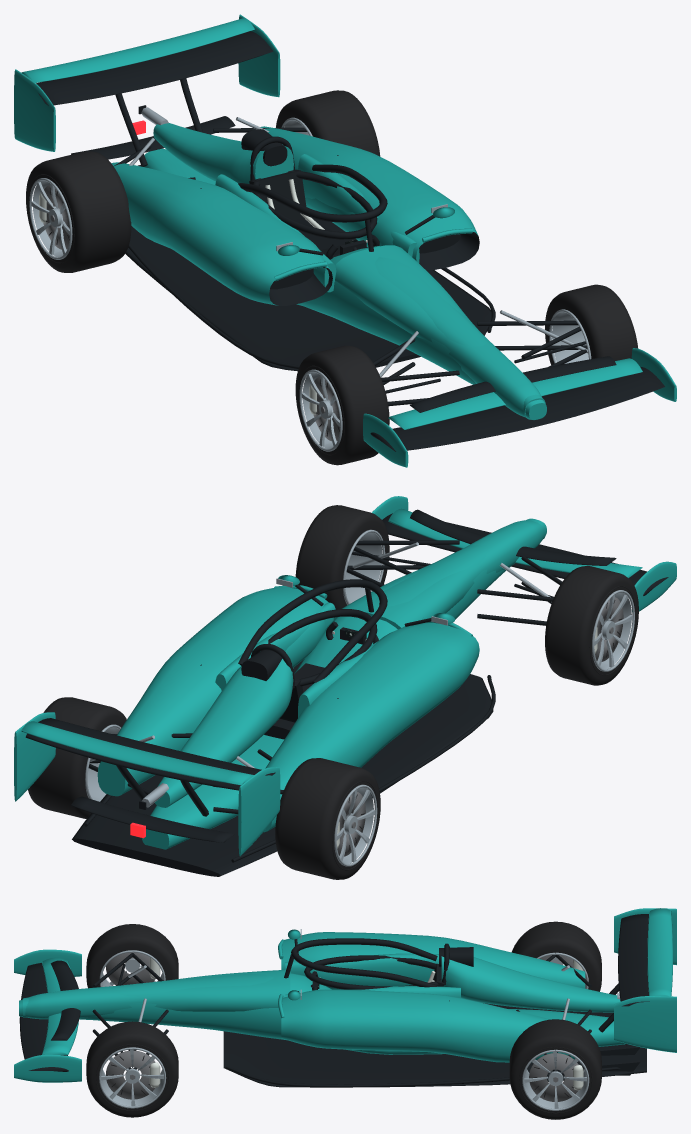
File: apex-lod0.glb
3 renders of one model, top to bottom at view 1: azimuth 30°, elevation 25°; view 2: azimuth 150°, elevation 25°; view 3: azimuth 270°, elevation 25°, orthographic. The views are drawn at different scales.
Parts seen in each view (by area): view 1: formula-keel_merged, contoured-floor_merged, profiled-tire_merged (×4), rim-barrel_merged (×3), ventilated-brake-rotor_merged (×2), pushrod_merged; view 2: formula-keel_merged, contoured-floor_merged, profiled-tire_merged (×4), rim-barrel_merged (×4), ventilated-brake-rotor_merged (×2), pushrod_merged; view 3: formula-keel_merged, contoured-floor_merged, profiled-tire_merged (×4), rim-barrel_merged (×3), ventilated-brake-rotor_merged (×3), pushrod_merged.
Part boxes in pixels (x1,y1,x2,y2): formula-keel_merged: (14,14,676,467); contoured-floor_merged: (36,31,664,451); profiled-tire_merged (×4): (26,90,638,465); rim-barrel_merged (×3): (29,178,591,451); ventilated-brake-rotor_merged (×2): (43,185,339,441); pushrod_merged: (128,107,588,377); formula-keel_merged: (14,496,676,856); contoured-floor_merged: (25,509,668,876); profiled-tire_merged (×4): (28,505,638,879); rim-barrel_merged (×4): (85,529,634,866); ventilated-brake-rotor_merged (×2): (337,597,623,856); pushrod_merged: (90,542,551,807); formula-keel_merged: (14,908,676,1082); contoured-floor_merged: (19,914,649,1087); profiled-tire_merged (×4): (86,921,601,1119); rim-barrel_merged (×3): (99,950,589,1110); ventilated-brake-rotor_merged (×3): (106,952,578,1101); pushrod_merged: (127,929,620,1071).
Size of the model in its own units: 2.22 by 1.01 by 5.17.
8 materials, 1 textured.
